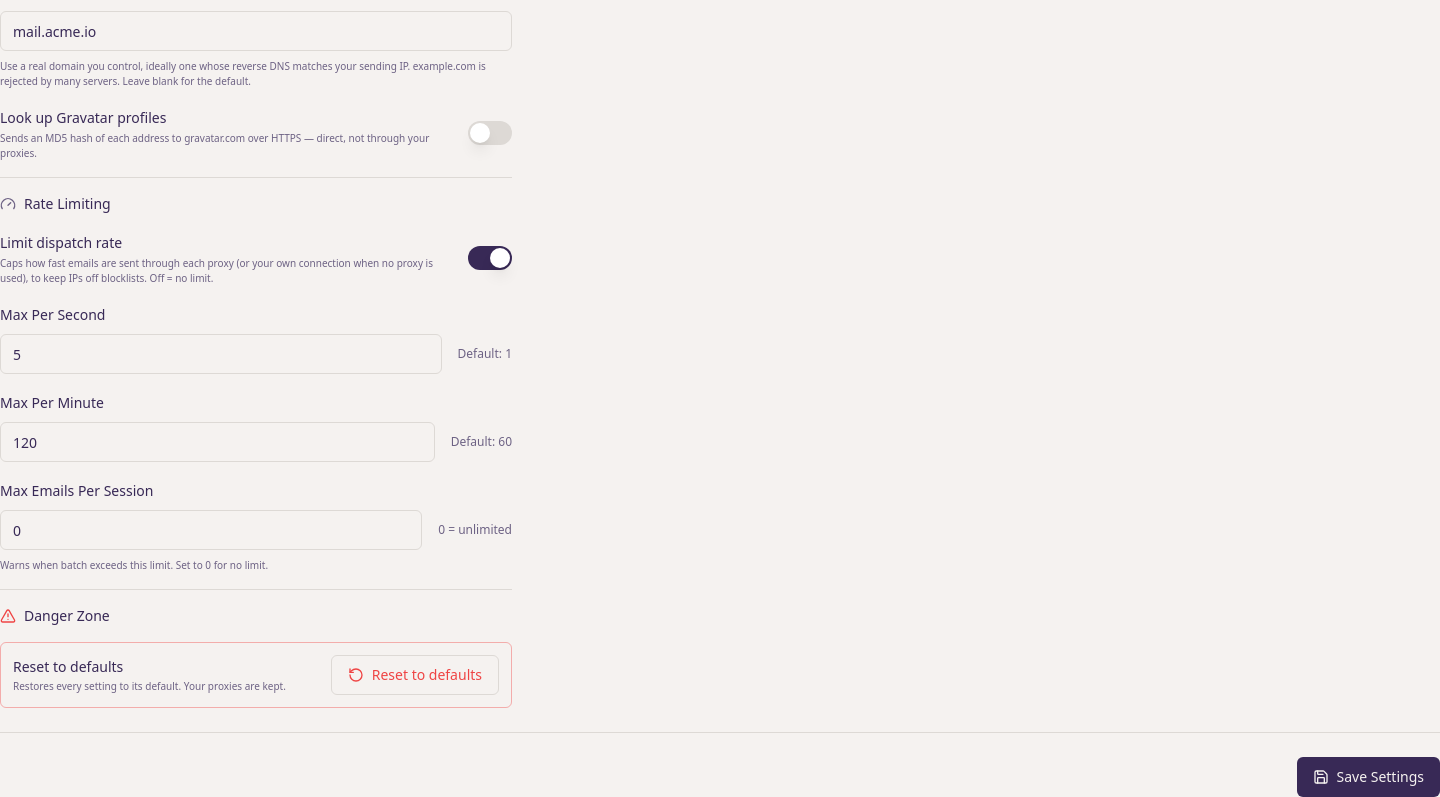
Scenario: Reset to defaults › opens a confirmation dialog describing the full reset
(page scrolled)
Click the button "Reset to defaults": point(415, 675) [331,655,499,695]
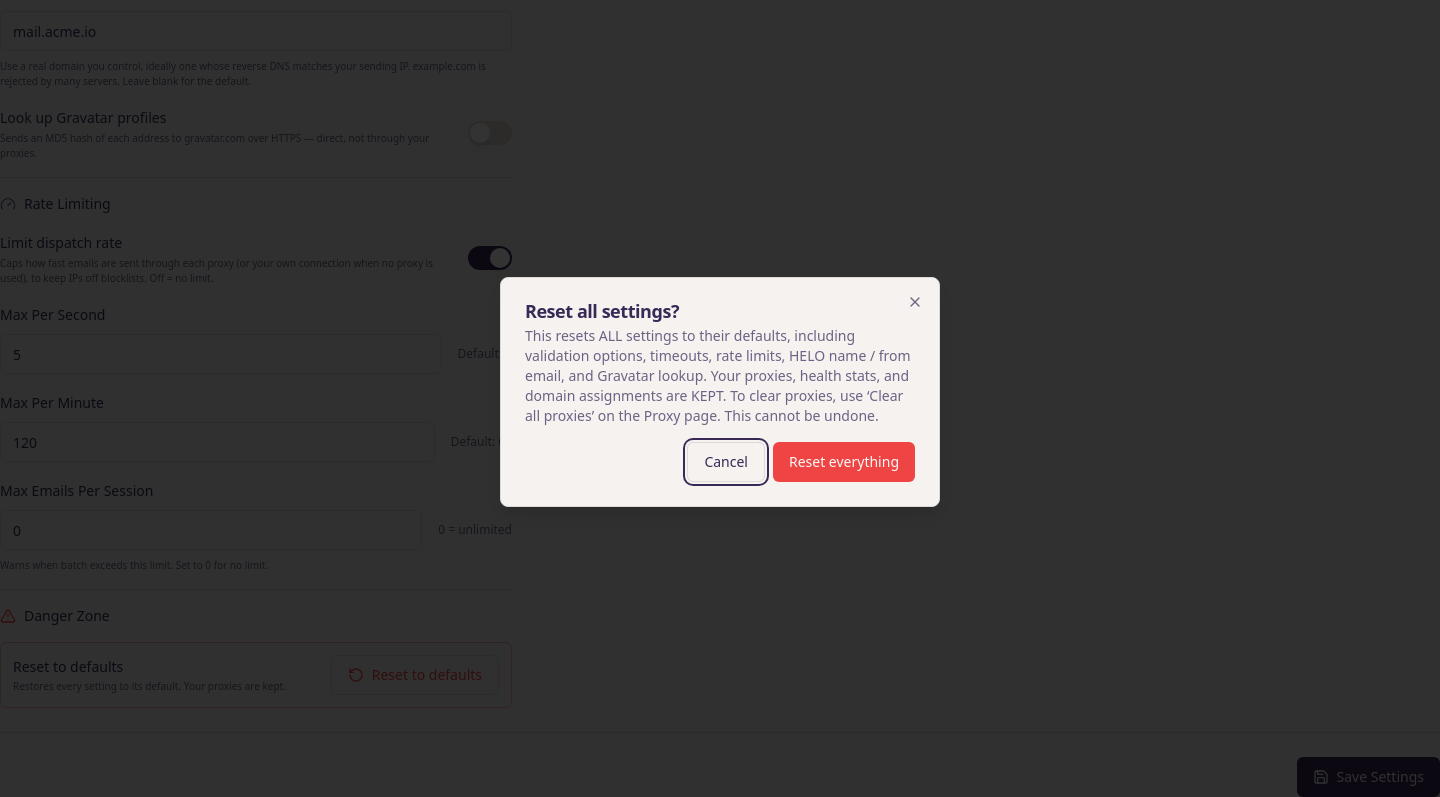
Result: the dialog shows "resets ALL settings to their defaults" at [525,326,911,425]
Result: the dialog shows "proxies, health stats, and domain assignments are KEPT" at [525,326,911,425]
Result: the dialog shows "cannot be undone" at [525,326,911,425]
